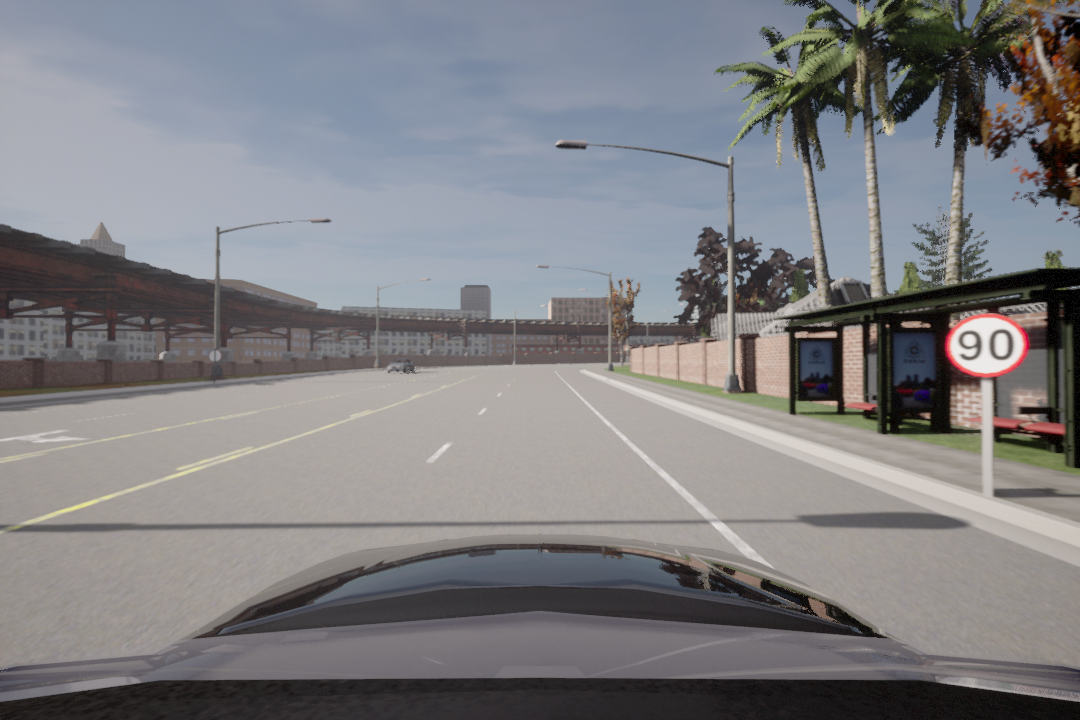TrafficSign_speed: (941, 311, 1027, 376)
